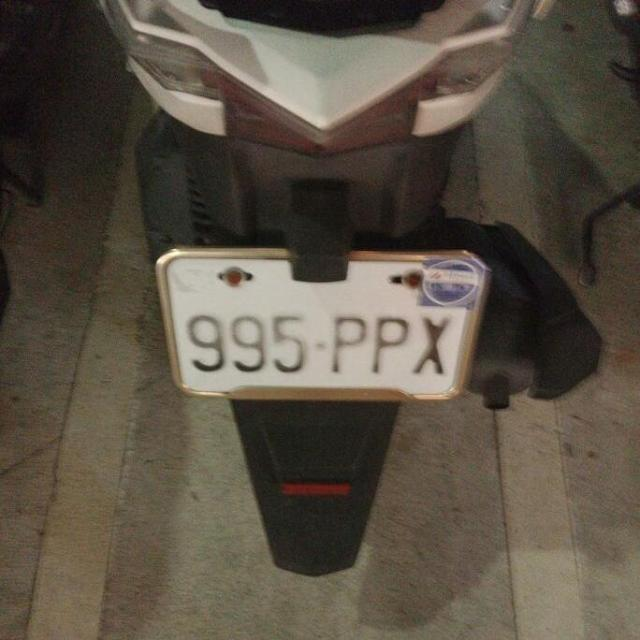W: (151, 220, 490, 422)
